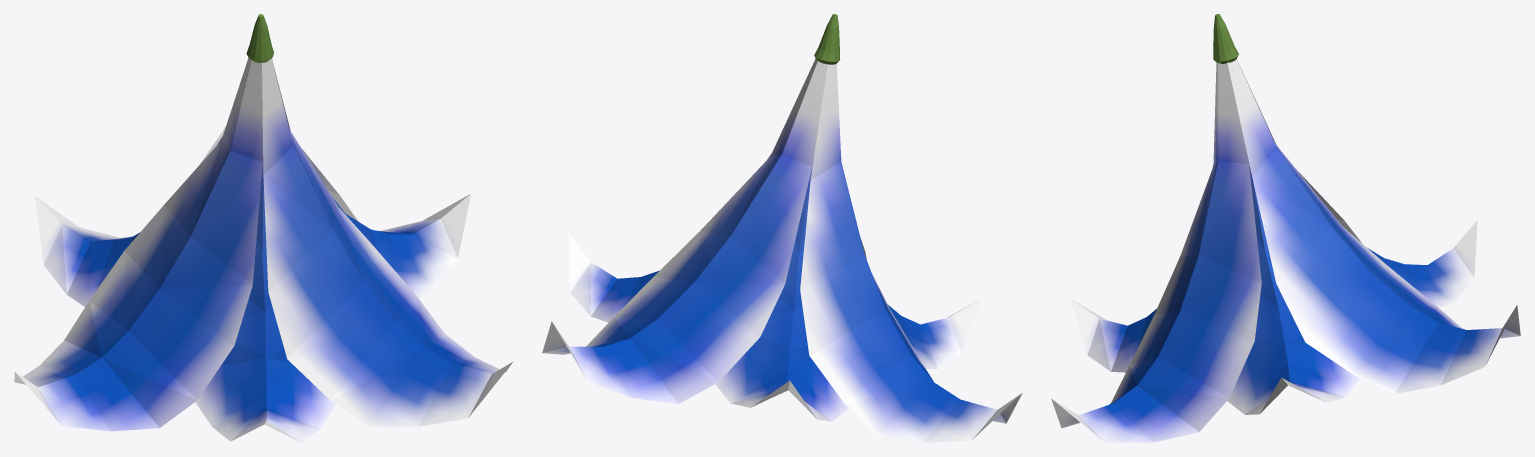
The model's file is BLUE LILY HAT.fbx.
The picture shows the model from 3 angles, left to right: view 1: azimuth 30°, elevation 25°; view 2: azimuth 150°, elevation 25°; view 3: azimuth 270°, elevation 25°; orthographic projection. The views are drawn at different scales.
Parts seen in each view (by area): view 1: BLUE_LILY_HAT; view 2: BLUE_LILY_HAT; view 3: BLUE_LILY_HAT.
Boxes of the visible parts, x1,y1,x2,y2 form: BLUE_LILY_HAT: [14, 14, 513, 442]; BLUE_LILY_HAT: [542, 14, 1022, 442]; BLUE_LILY_HAT: [1051, 14, 1520, 442].
Bounding box in the file's own units: 46.57 × 36.73 × 42.83.
